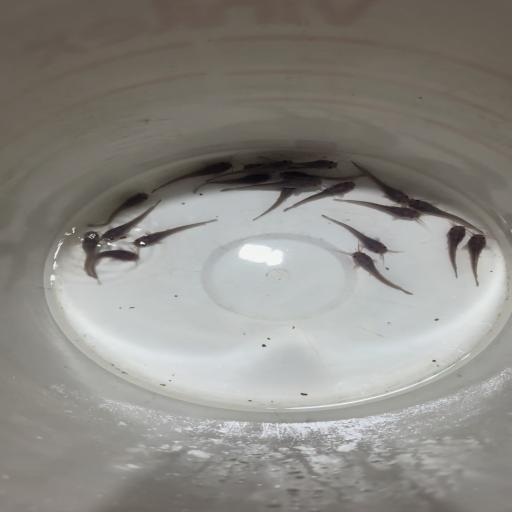lele: (341, 247, 414, 295), (320, 214, 397, 255), (408, 197, 485, 234), (148, 160, 234, 193), (350, 160, 412, 204), (98, 200, 163, 240), (130, 219, 218, 248), (83, 192, 149, 228), (287, 181, 356, 215), (332, 197, 423, 221), (202, 158, 294, 181), (86, 249, 139, 284), (188, 173, 273, 194), (216, 176, 321, 193), (442, 221, 468, 279), (250, 189, 295, 222), (464, 229, 489, 287), (257, 154, 345, 170), (280, 171, 366, 182), (78, 228, 97, 276), (244, 160, 313, 171)
